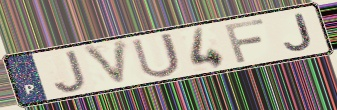4: (189, 25, 228, 70)
F: (221, 17, 267, 65)
J: (52, 48, 89, 94), (282, 11, 316, 53)
U: (129, 31, 184, 80)
V: (80, 37, 131, 89)
